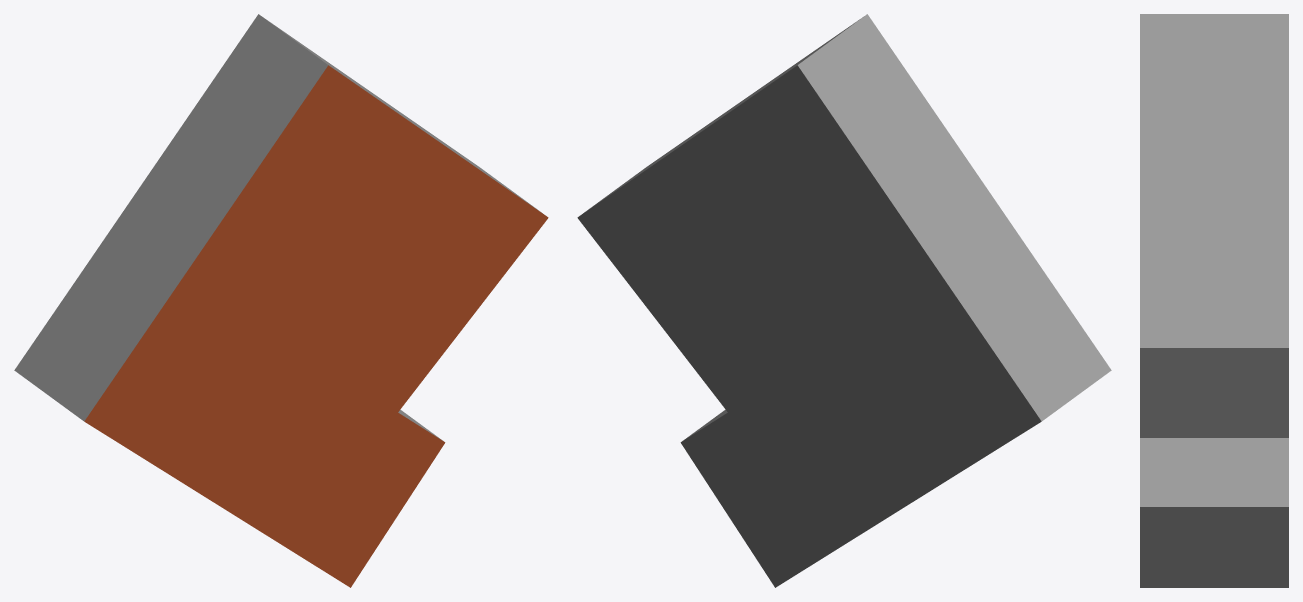
Rendered from construction_1463_assumed_A_Casa_h6m.obj.
The picture shows the model from 3 angles, left to right: view 1: azimuth 30°, elevation 25°; view 2: azimuth 150°, elevation 25°; view 3: azimuth 270°, elevation 25°; orthographic projection. The views are drawn at different scales.
Visible parts, largest first — view 1: construction_1463_assumed_A_Casa; view 2: construction_1463_assumed_A_Casa; view 3: construction_1463_assumed_A_Casa.
Boxes of the visible parts, <box> form: construction_1463_assumed_A_Casa: <box>14,14,548,587</box>; construction_1463_assumed_A_Casa: <box>577,14,1111,587</box>; construction_1463_assumed_A_Casa: <box>1140,14,1288,587</box>.
Size of the model in its own units: 23 by 25 by 6.
